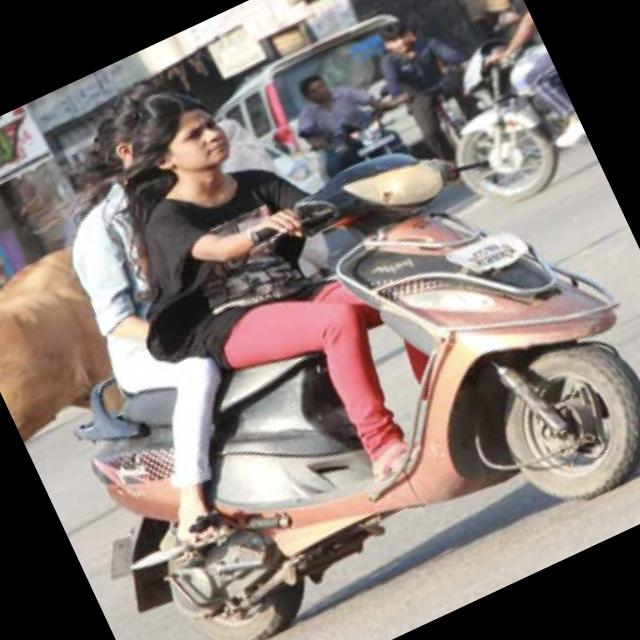bareface: (118, 74, 244, 208)
